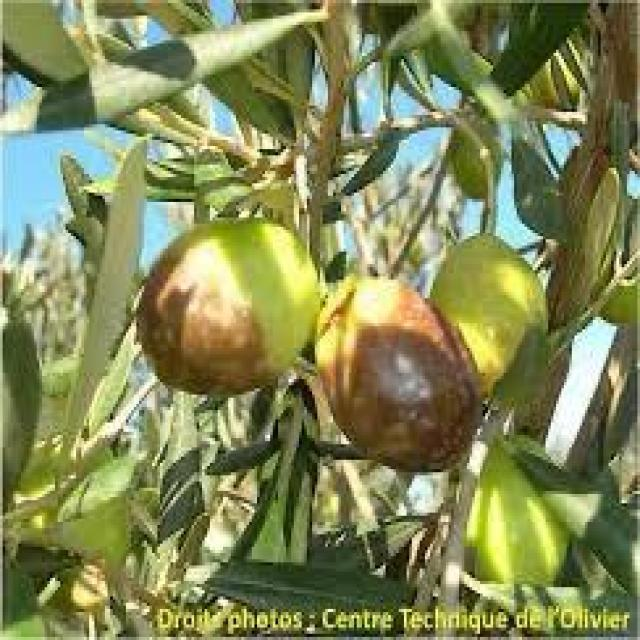Anthracnose: (315, 276, 480, 469), (138, 218, 318, 392)
